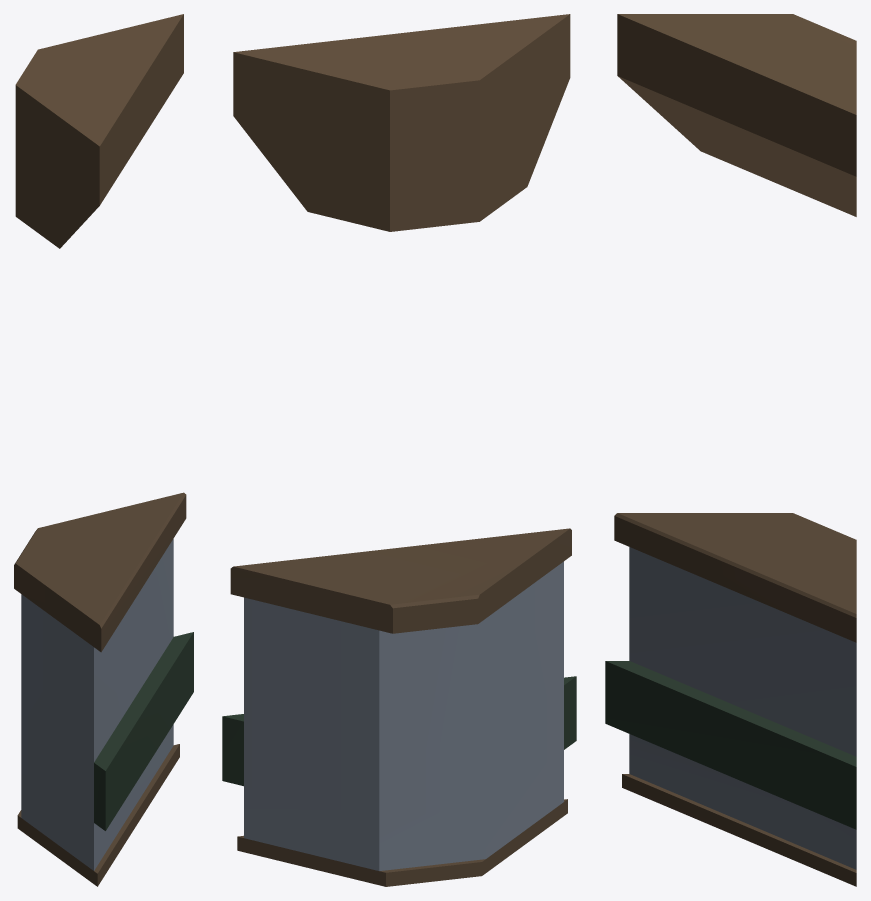
The model's file is SM_receptionCounter_02.glb.
The picture shows the model from 3 angles, left to right: view 1: azimuth 30°, elevation 25°; view 2: azimuth 150°, elevation 25°; view 3: azimuth 270°, elevation 25°; orthographic projection. The views are drawn at different scales.
Visible parts, largest first — view 1: SM_receptionCounter_02; view 2: SM_receptionCounter_02; view 3: SM_receptionCounter_02.
Boxes of the visible parts, x1,y1,x2,y2 form: SM_receptionCounter_02: (14,14,193,886); SM_receptionCounter_02: (222,14,576,886); SM_receptionCounter_02: (605,14,856,886).
Bounding box in the file's own units: 0.8299 × 2.82 × 0.8299.
Materials: 1 (1 with a texture image).
